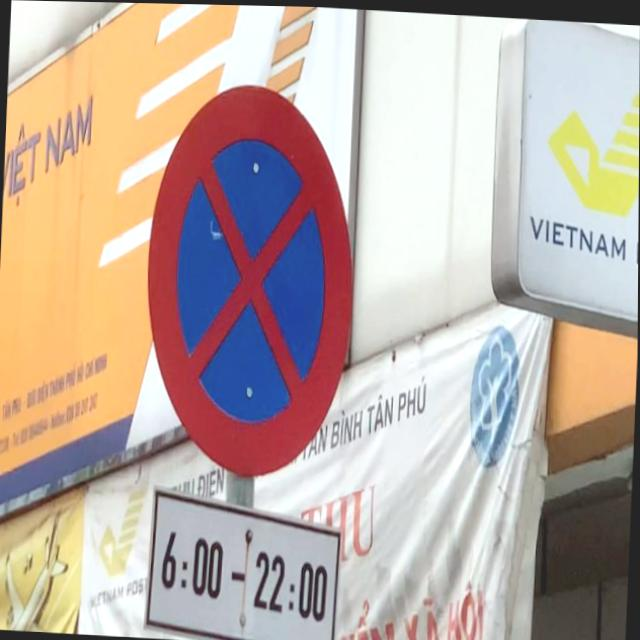Cam dung xe va do xe: (124, 65, 377, 498)
